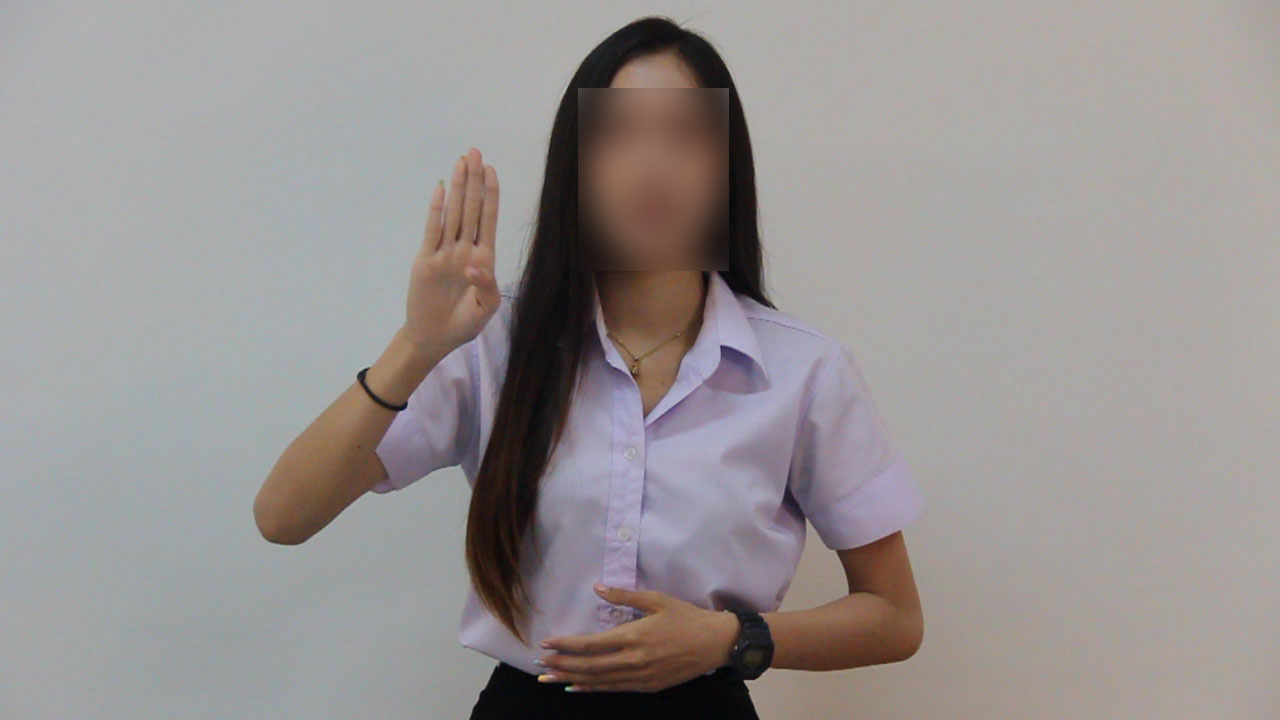bor: (388, 125, 514, 376)
